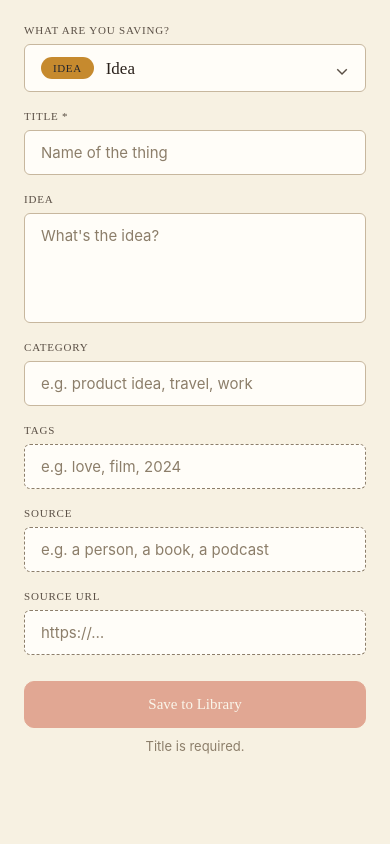
Test: ItemForm type picker — disabled built-in types › excludes a disabled built-in type from the picker list
This screenshot has width=390, height=844.
Click the element with test id "type-picker-trigger" at (195, 68), box x1=24 y1=44 x2=366 y2=92
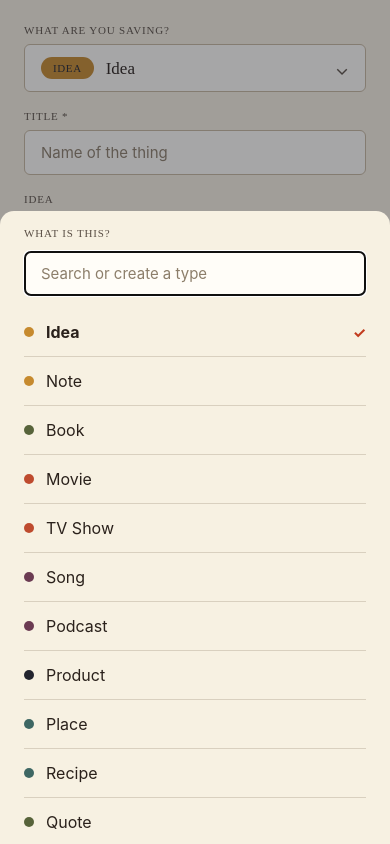
Check: the text "Book" is shown, box x1=46 y1=420 x2=84 y2=440
